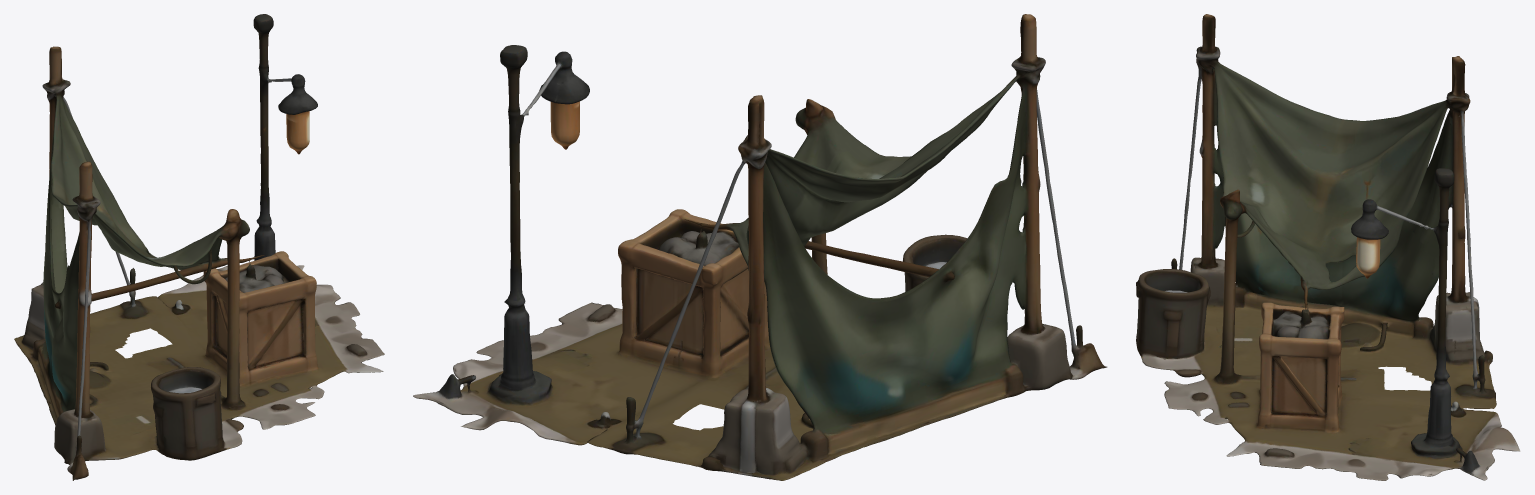
The model's file is SM_Environment_MedievalCamp_01.fbx.
3 renders of one model, left to right at view 1: azimuth 30°, elevation 25°; view 2: azimuth 150°, elevation 25°; view 3: azimuth 270°, elevation 25°, orthographic. The views are drawn at different scales.
Visible parts, largest first — view 1: SM_Environment_MedievalCamp_01; view 2: SM_Environment_MedievalCamp_01; view 3: SM_Environment_MedievalCamp_01.
Part boxes in pixels (bbox=[...]): SM_Environment_MedievalCamp_01: bbox=[14, 14, 384, 480]; SM_Environment_MedievalCamp_01: bbox=[413, 14, 1107, 480]; SM_Environment_MedievalCamp_01: bbox=[1136, 14, 1520, 480].
Size of the model in its own units: 0.9828 by 0.7079 by 0.828.
Materials: 1 (1 with a texture image).
